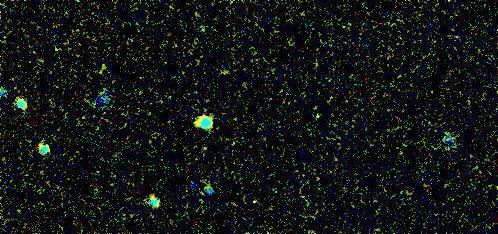star: (241, 187, 271, 217)
